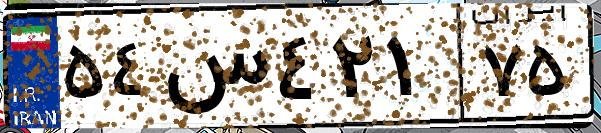1: (385, 28, 445, 110)
2: (330, 28, 385, 110)
4: (270, 28, 330, 110), (110, 28, 158, 98)
5: (57, 26, 110, 100), (525, 38, 570, 115)
7: (475, 38, 525, 113)
س: (158, 20, 270, 120)
